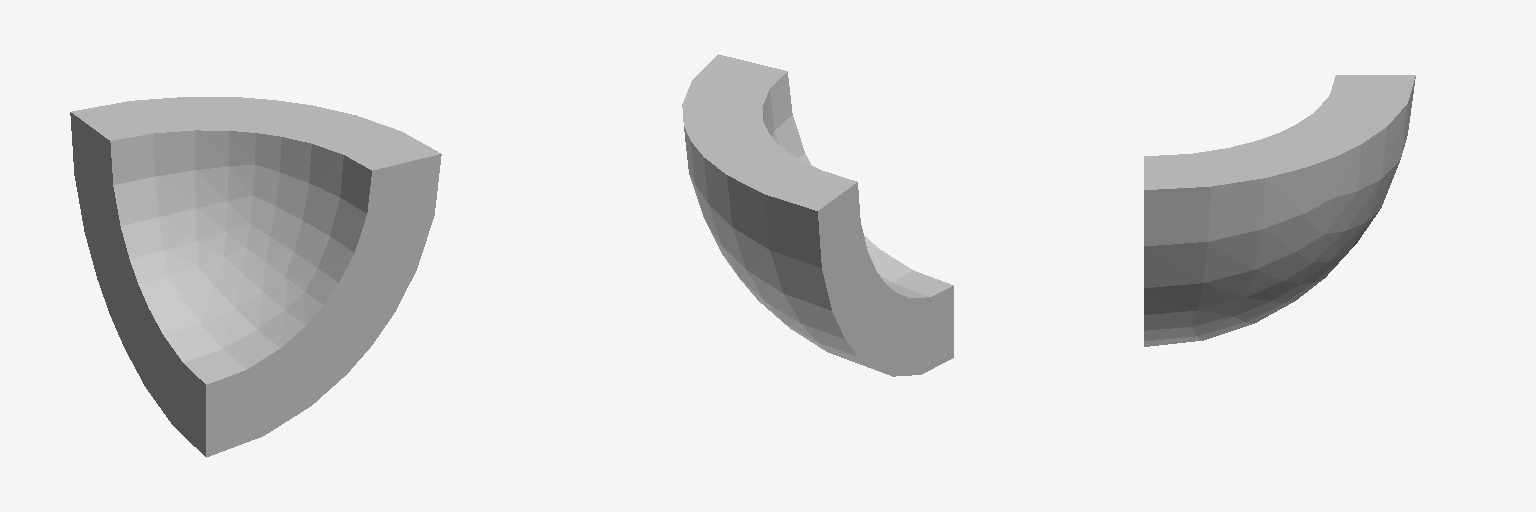
File: obj_planet_piece_6.obj
3 views of the same model, side by side, from view 1: azimuth 30°, elevation 25°; view 2: azimuth 150°, elevation 25°; view 3: azimuth 270°, elevation 25° (orthographic).
Visible parts, largest first — view 1: Cube.010_Cube.026; view 2: Cube.010_Cube.026; view 3: Cube.010_Cube.026.
Boxes of the visible parts, <box> form: Cube.010_Cube.026: <box>70,97,441,457</box>; Cube.010_Cube.026: <box>682,54,953,376</box>; Cube.010_Cube.026: <box>1144,75,1415,346</box>.
Size of the model in its own units: 1.24 by 1.24 by 1.24.